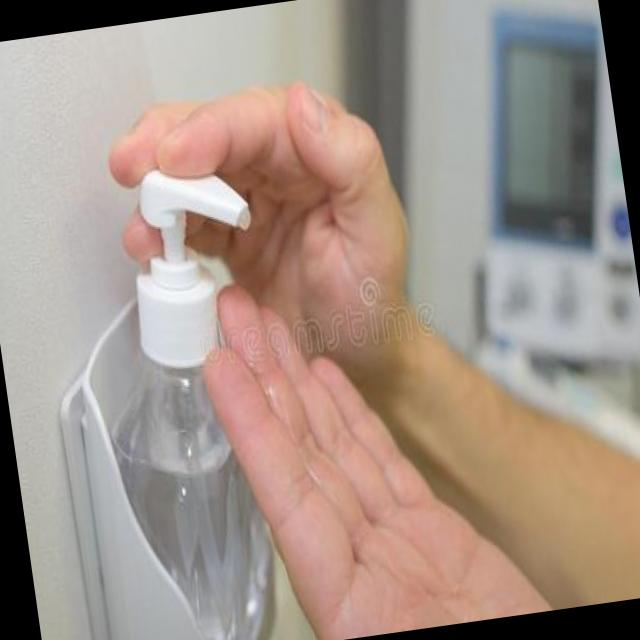sanitizer: (48, 154, 288, 640)
